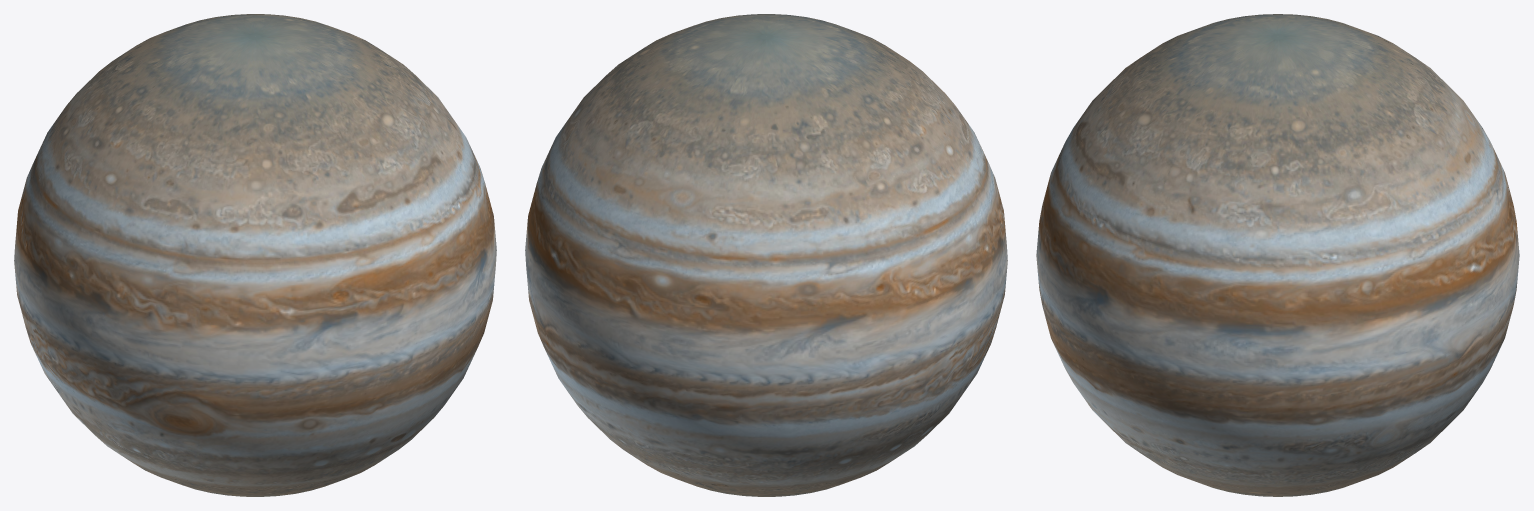
File: Jupiter.FBX
3 renders of one model, left to right at view 1: azimuth 30°, elevation 25°; view 2: azimuth 150°, elevation 25°; view 3: azimuth 270°, elevation 25°, orthographic.
Parts seen in each view (by area): view 1: Sphere001; view 2: Sphere001; view 3: Sphere001.
Boxes of the visible parts, left/top/right/bottom form: Sphere001: left=14, top=14, right=496, bottom=496; Sphere001: left=525, top=14, right=1007, bottom=496; Sphere001: left=1036, top=14, right=1519, bottom=496.
Bounding box in the file's own units: 54 × 54 × 54.
1 material, 1 textured.
